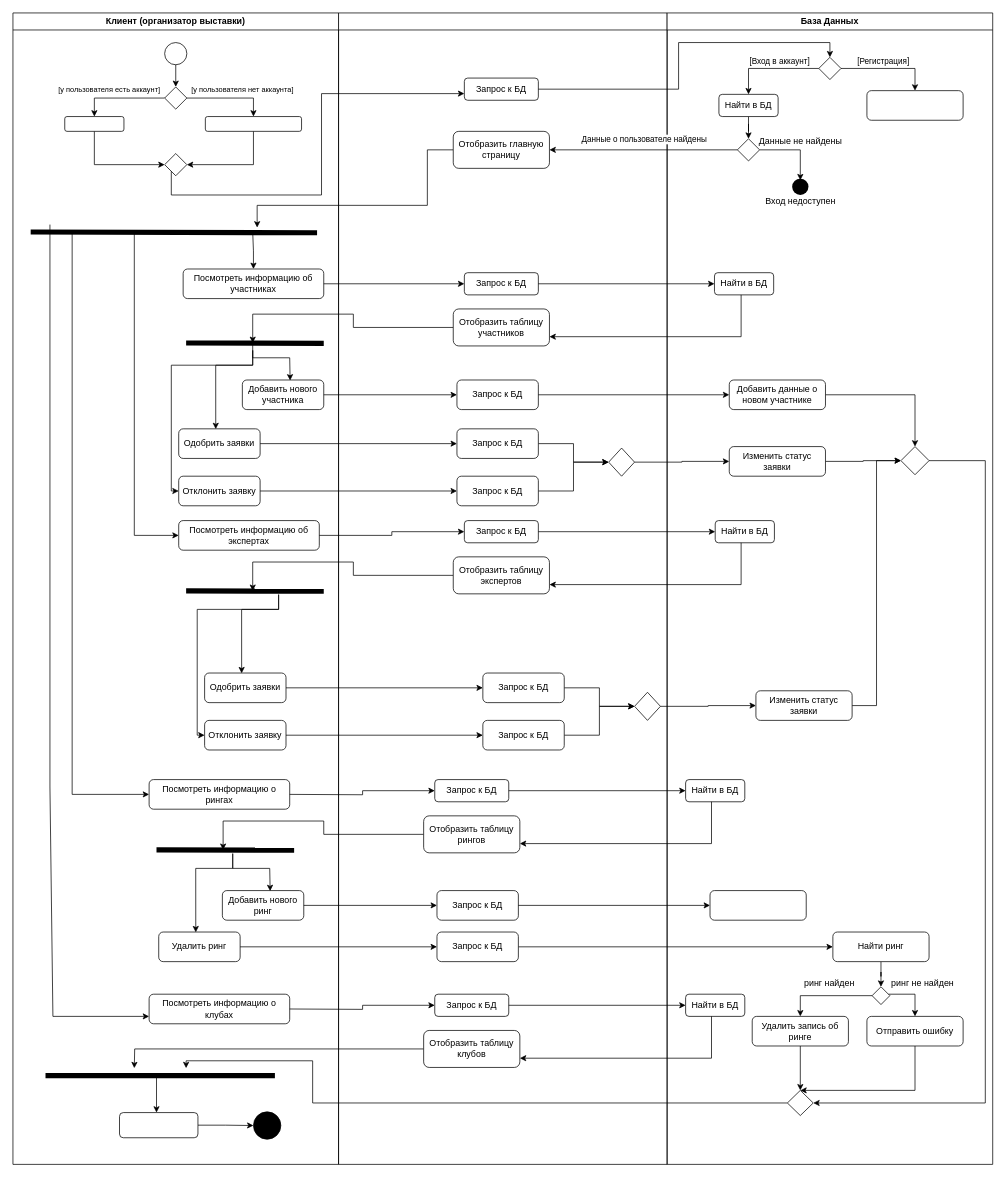
Some shapes in this 1006 by 1177 pixel diagram are drawn without their labels. Each missing label, with the box of its shape:
Веб-сервер: (338, 12, 667, 1164)
Войти: (64, 116, 124, 131)
Выход из аккаунта: (119, 1112, 198, 1138)
Добавить данные о новом пользователе: (866, 90, 963, 120)
Добавить данные о новом ринге: (709, 890, 806, 920)
Зарегистрироваться: (205, 116, 302, 131)
